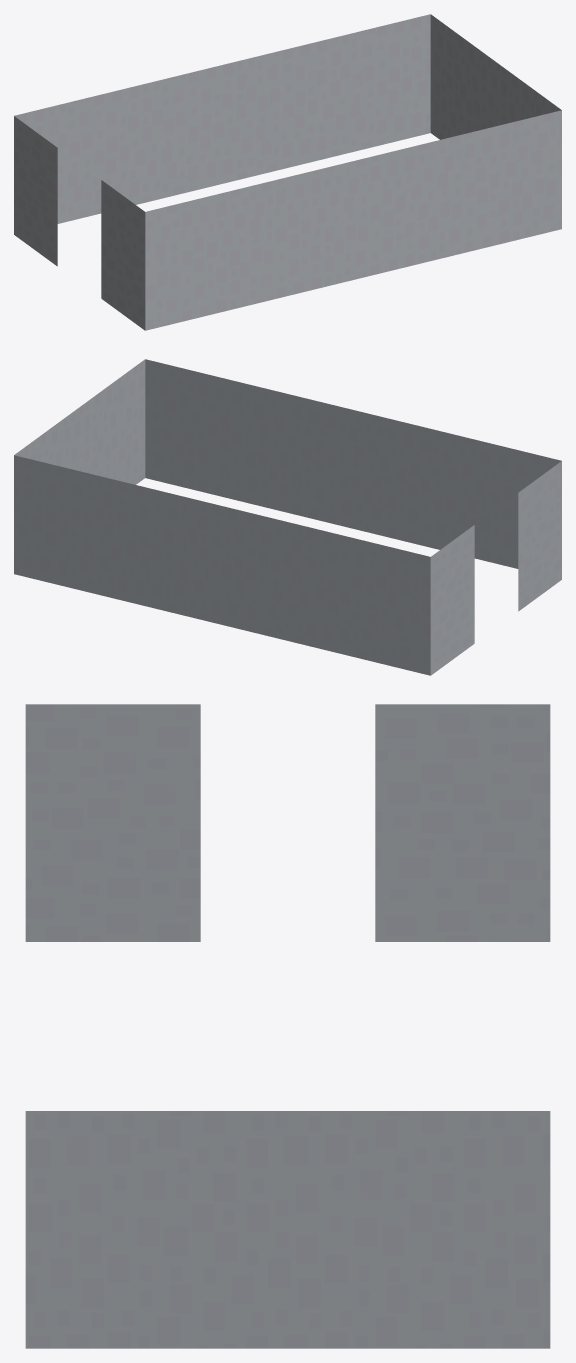
The model's file is church_s486-511.glb.
3 views of the same model, one above another, from view 1: azimuth 30°, elevation 25°; view 2: azimuth 150°, elevation 25°; view 3: azimuth 270°, elevation 25° (orthographic). The views are drawn at different scales.
Parts seen in each view (by area): view 1: church_s486-511; view 2: church_s486-511; view 3: church_s486-511.
Part boxes in pixels (x1,y1,x2,y2): church_s486-511: [14, 14, 561, 330]; church_s486-511: [14, 359, 561, 675]; church_s486-511: [25, 704, 550, 1348].
Size of what is drawn, in the model's own units: 11 by 3 by 6.
1 material, 1 textured.
